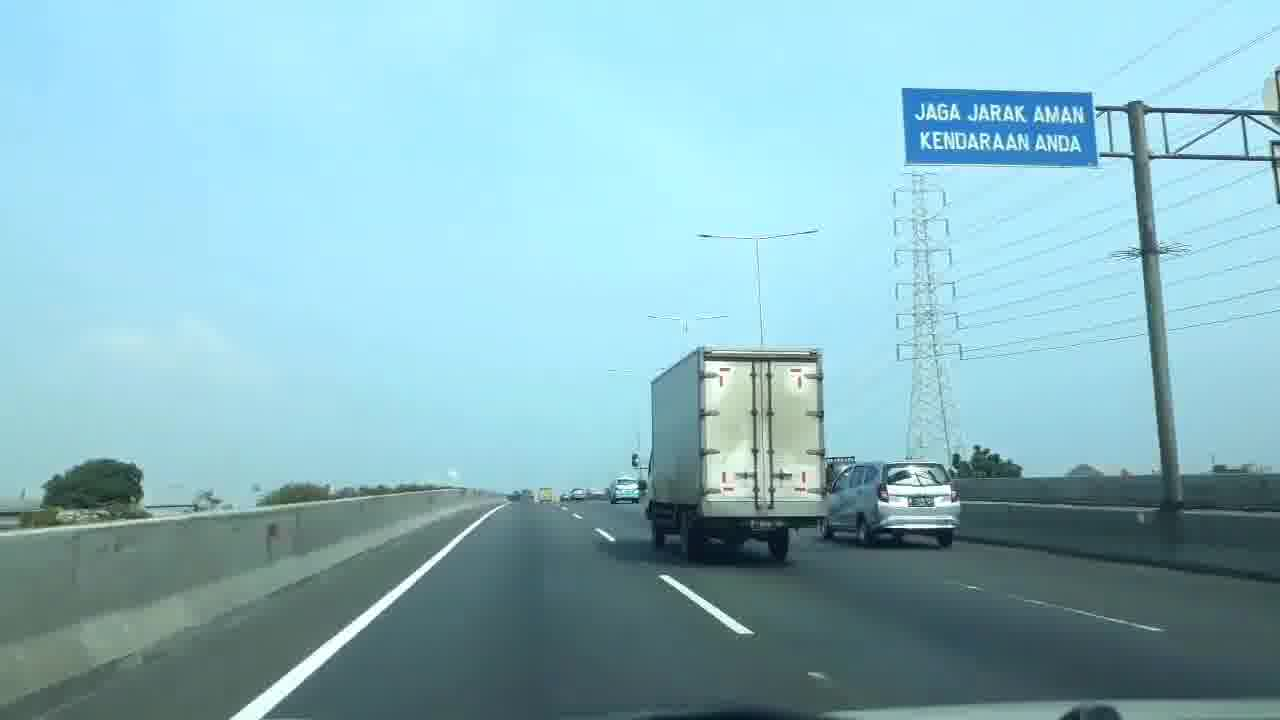plate_positive: (908, 496, 935, 507)
